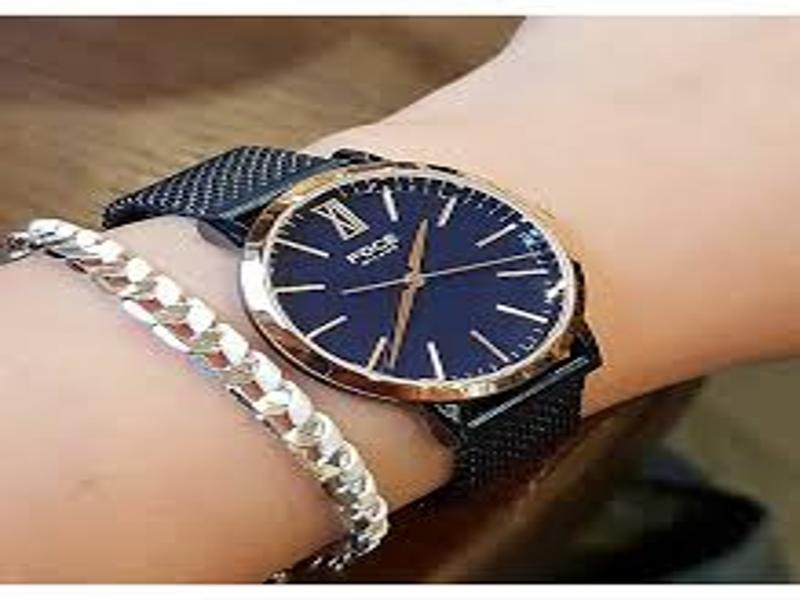watch: (94, 140, 605, 501)
